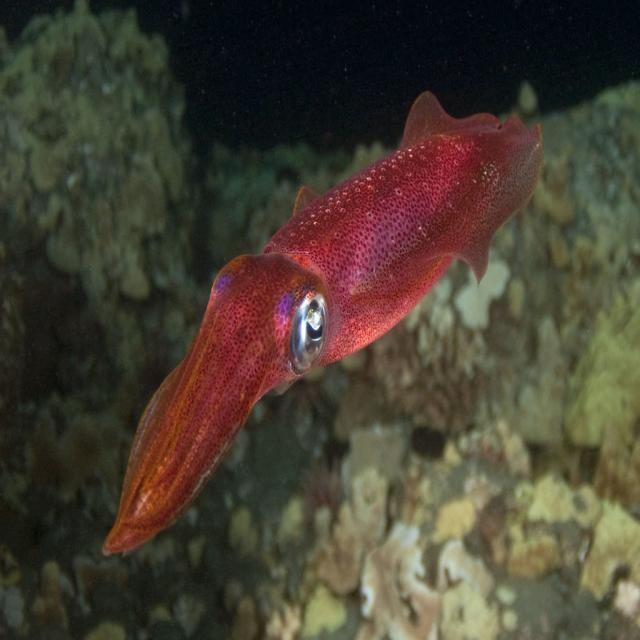SQUID: (90, 78, 555, 581)
